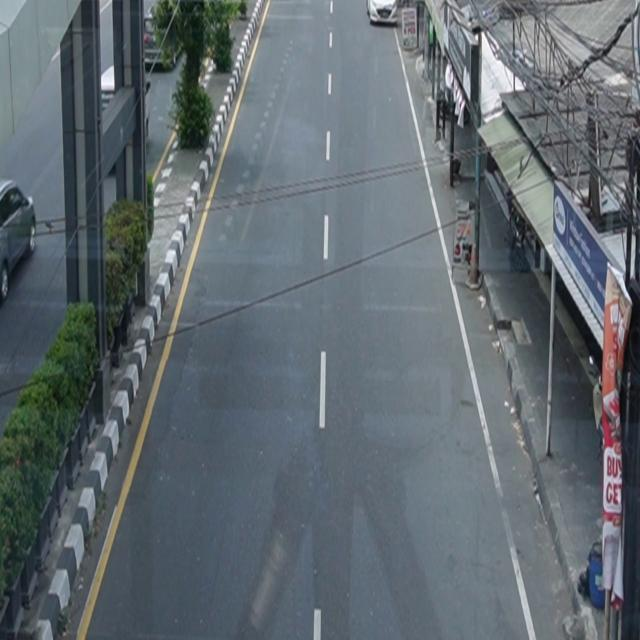car: (1, 178, 37, 306), (367, 1, 398, 26)
